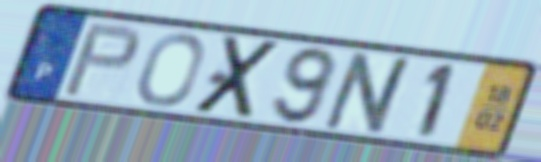1: (413, 61, 461, 141)
9: (268, 45, 338, 128)
N: (318, 49, 421, 138)
O: (135, 30, 208, 109)
P: (58, 21, 144, 99)
X: (188, 33, 288, 121)
